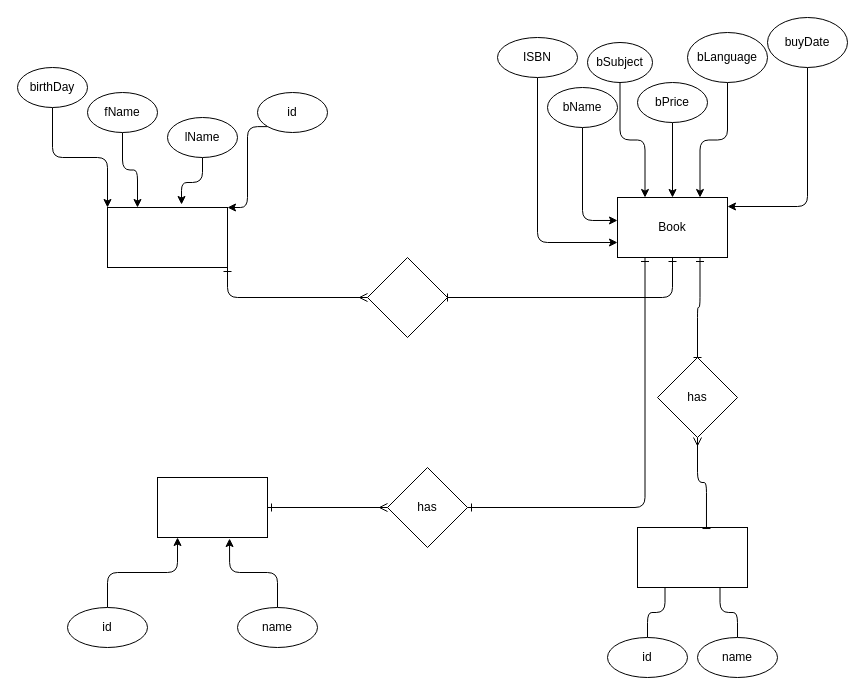
Image size: 865x695. Some labels were removed from this diagram. The box of each missing label's shape, as (x1, y1, x2, y2) in pixels:
publicher: (156, 476, 268, 538)
type/Category: (636, 526, 748, 588)
Writer: (106, 206, 228, 268)
writes: (366, 256, 448, 338)
